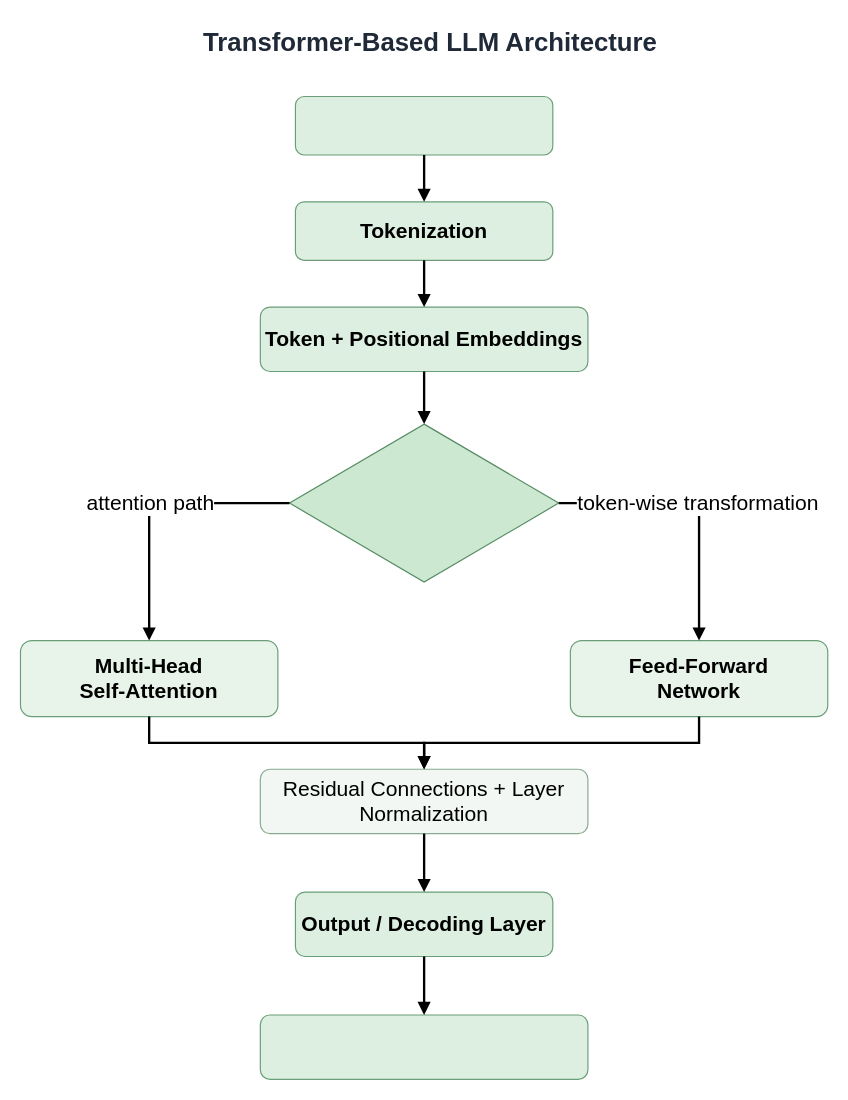
The diagram is 848 pixels wide and 1100 high, and some of its shapes have lost their labels. Here are the shapes that lost their labels. From the top down, the centre of each, then its label:
pixel 423 125: Input Text
pixel 423 502: Stacked Transformer Blocks
pixel 423 1046: Training and Loss Optimization
